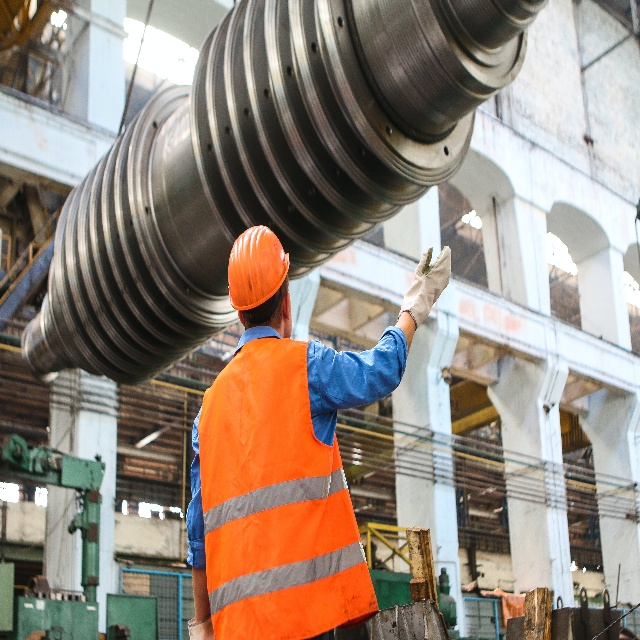Guantes: (397, 244, 452, 328), (187, 616, 214, 640)
